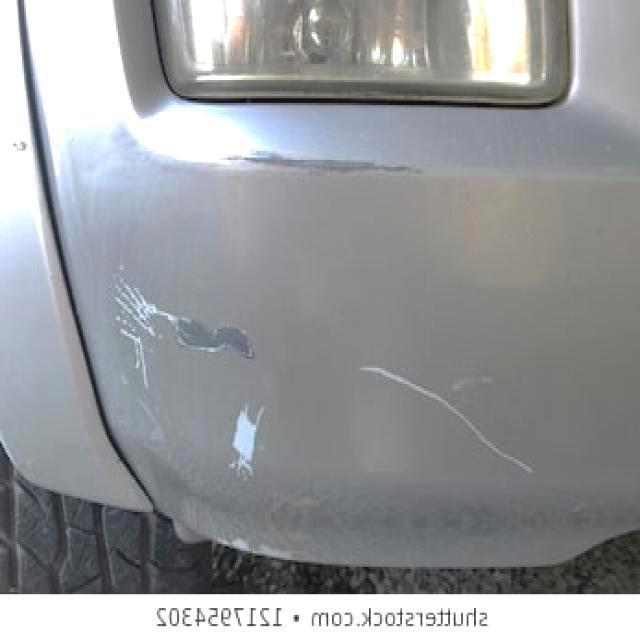minor: (359, 368, 534, 477), (360, 369, 496, 400)
moderate: (114, 281, 255, 394), (222, 151, 419, 175), (227, 406, 265, 482)
